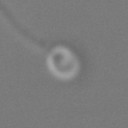normal: (1, 1, 51, 53)
